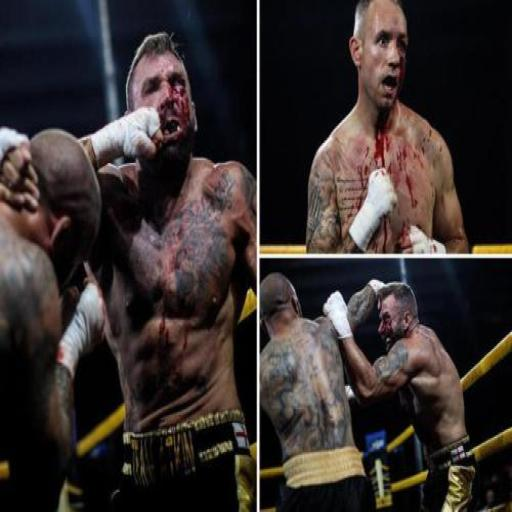boxing: (0, 30, 257, 510), (304, 0, 470, 254)
